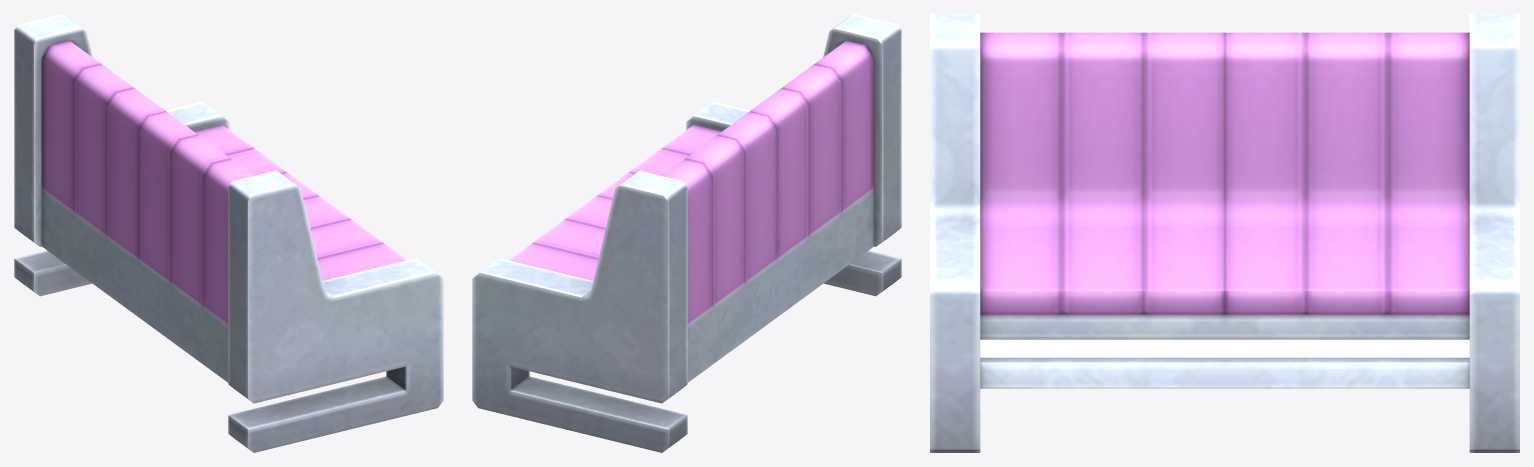
Rendered from obj_bench04.gltf.
3 renders of one model, left to right at view 1: azimuth 30°, elevation 25°; view 2: azimuth 150°, elevation 25°; view 3: azimuth 270°, elevation 25°, orthographic. The views are drawn at different scales.
Visible parts, largest first — view 1: obj_bench04; view 2: obj_bench04; view 3: obj_bench04.
Boxes of the visible parts, x1,y1,x2,y2 form: obj_bench04: (14,14,443,452); obj_bench04: (472,14,901,452); obj_bench04: (930,14,1519,452).
Size of what is drawn, in the model's own units: 0.8444 by 1.06 by 1.75.
2 materials, 1 textured.
